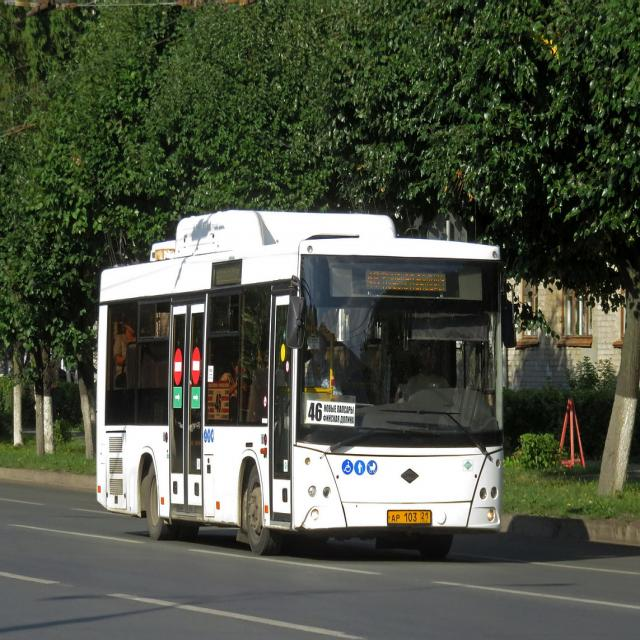number-of-bus: (308, 402, 326, 427)
